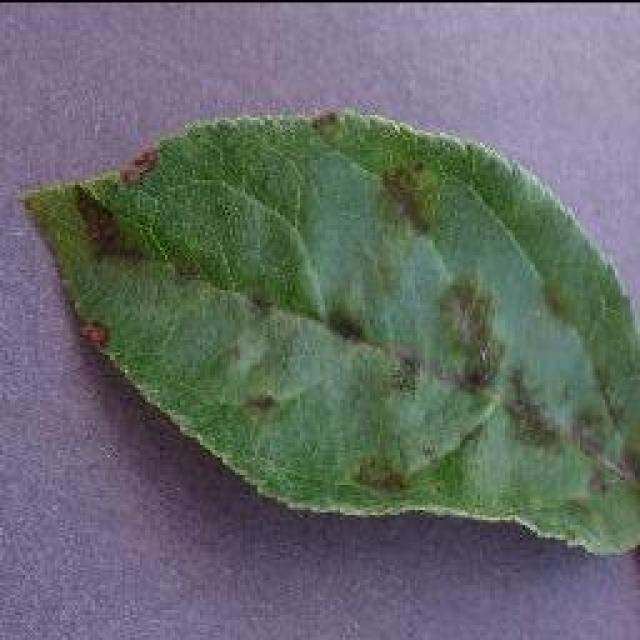apple scab disease: (18, 105, 638, 560)
